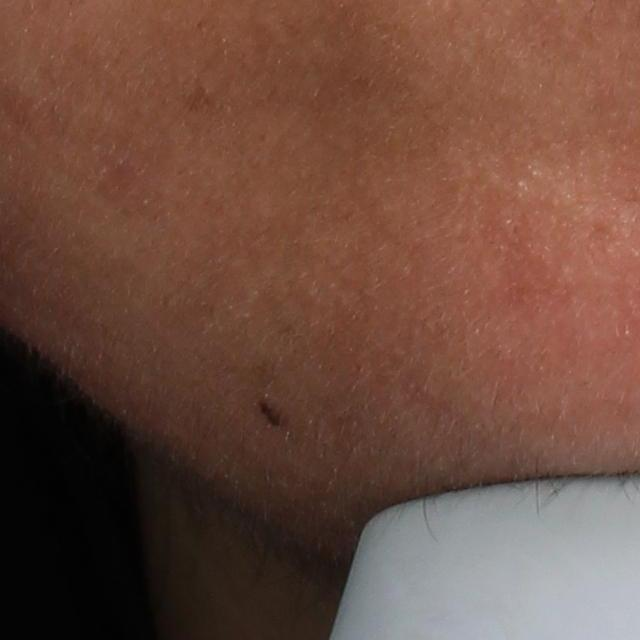nevus: (255, 395, 292, 432)
